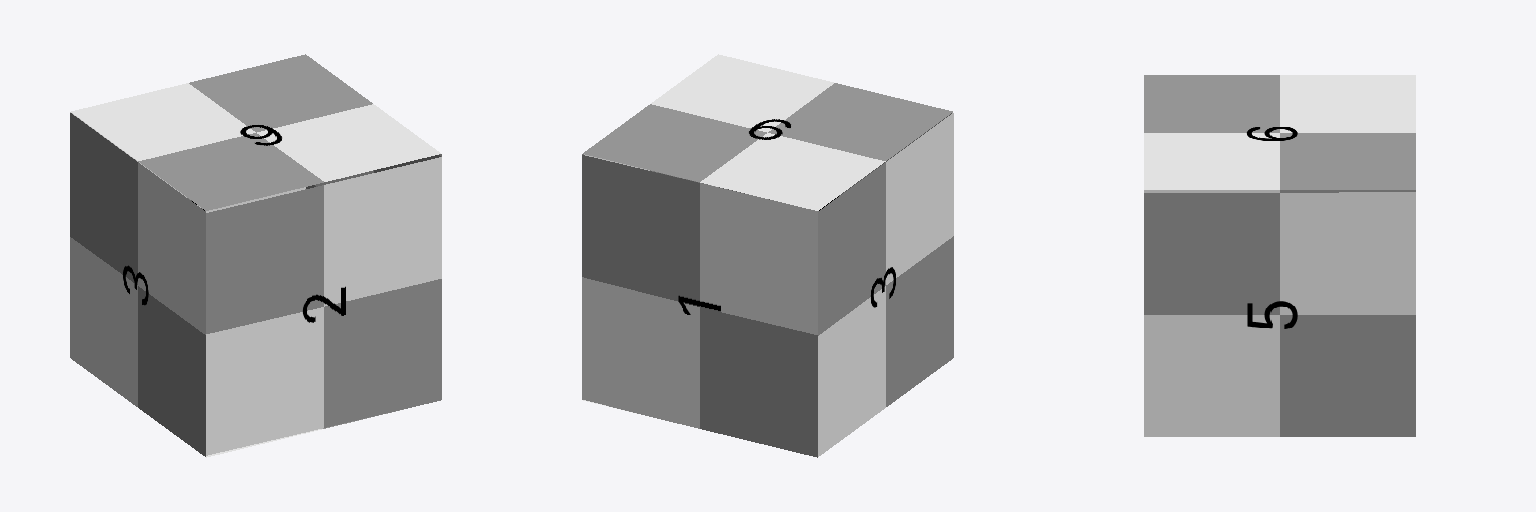
3 renders of one model, left to right at view 1: azimuth 30°, elevation 25°; view 2: azimuth 150°, elevation 25°; view 3: azimuth 270°, elevation 25°, orthographic.
Parts seen in each view (by area): view 1: testcube; view 2: testcube; view 3: testcube.
Boxes of the visible parts, x1,y1,x2,y2 form: testcube: [70, 54, 441, 457]; testcube: [582, 54, 953, 457]; testcube: [1144, 75, 1415, 436].
Size of the model in its own units: 2 by 2 by 2.
1 materials, 1 textured.